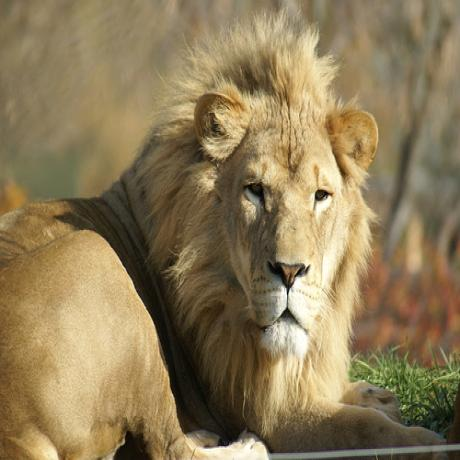Lion: (0, 8, 443, 459)
